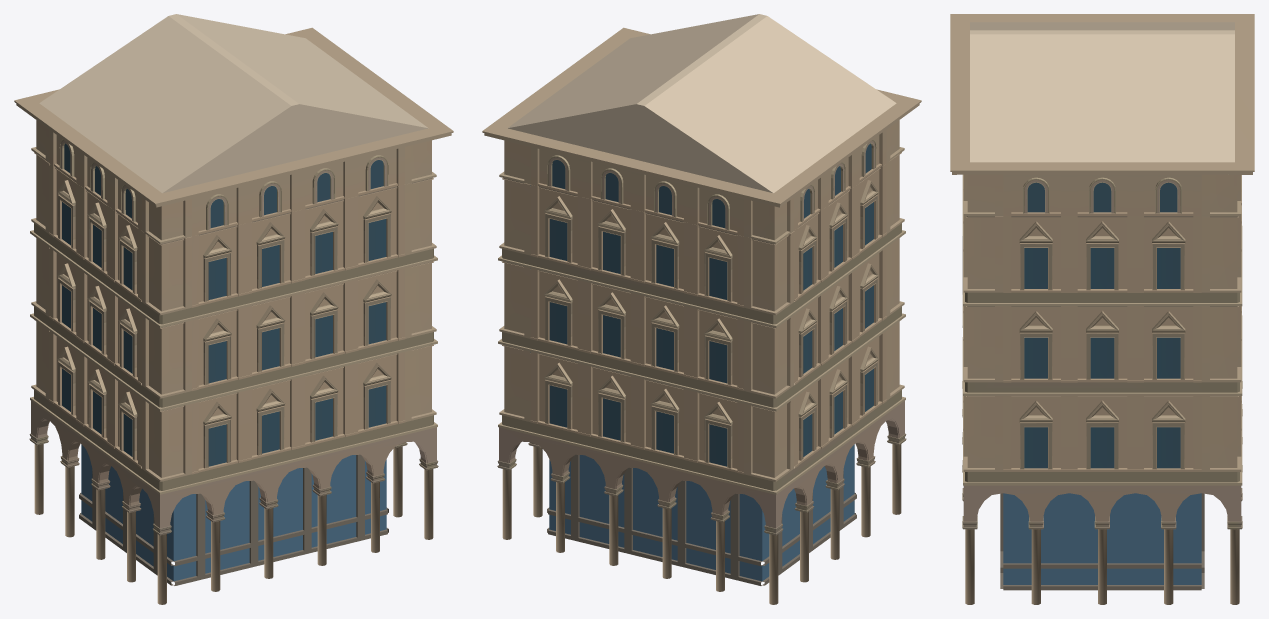
Rendered from v2-buildings-arched-02.glb.
3 views of the same model, side by side, from view 1: azimuth 30°, elevation 25°; view 2: azimuth 150°, elevation 25°; view 3: azimuth 270°, elevation 25° (orthographic). The views are drawn at different scales.
Parts seen in each view (by area): view 1: arched-building-02; view 2: arched-building-02; view 3: arched-building-02.
Boxes of the visible parts, left/top/right/bottom form: arched-building-02: left=14, top=14, right=453, bottom=604; arched-building-02: left=482, top=14, right=921, bottom=604; arched-building-02: left=950, top=14, right=1254, bottom=604.
Size of the model in its own units: 11.19 by 16.69 by 9.19.
1 material, 1 textured.
